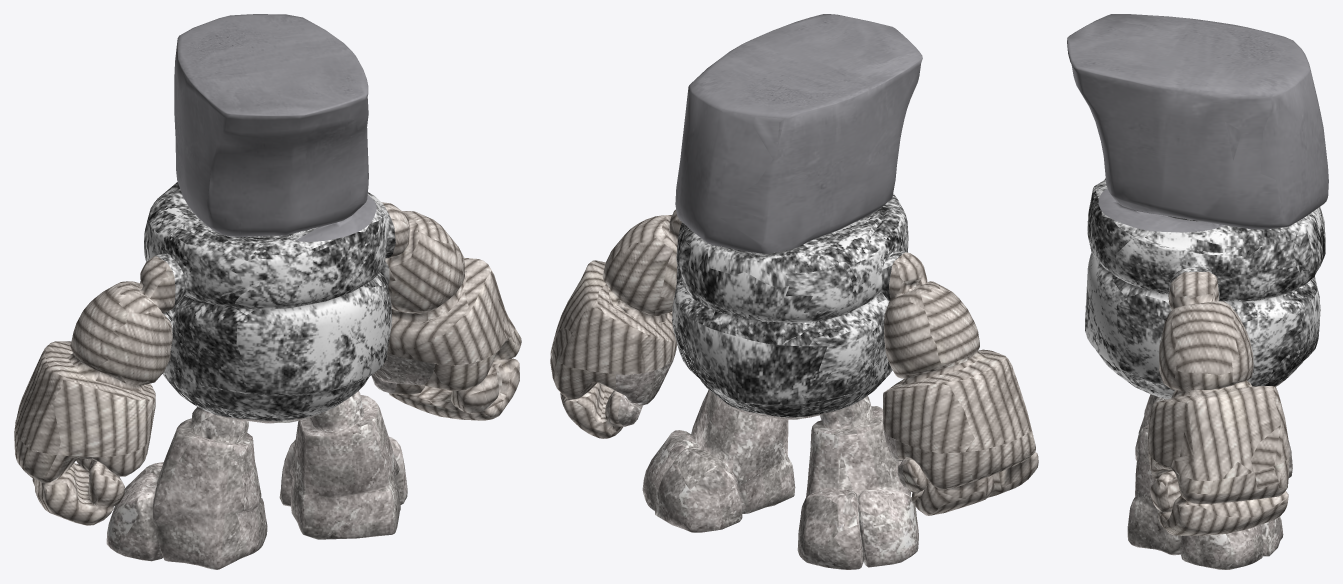
The model's file is 09-monolith-tanka--3d_robot_model.glb.
3 renders of one model, left to right at view 1: azimuth 30°, elevation 25°; view 2: azimuth 150°, elevation 25°; view 3: azimuth 270°, elevation 25°, orthographic. The views are drawn at different scales.
Parts seen in each view (by area): view 1: arms_mesh, body_mesh, head_mesh, feet_mesh; view 2: head_mesh, arms_mesh, body_mesh, feet_mesh; view 3: head_mesh, body_mesh, arms_mesh, feet_mesh.
Part boxes in pixels (x1,y1,x2,y2): arms_mesh: [14, 202, 521, 525]; body_mesh: [144, 182, 395, 420]; head_mesh: [174, 14, 376, 241]; feet_mesh: [106, 353, 435, 569]; head_mesh: [675, 14, 922, 253]; arms_mesh: [550, 209, 1038, 515]; body_mesh: [672, 193, 908, 417]; feet_mesh: [616, 349, 918, 569]; head_mesh: [1067, 14, 1328, 232]; body_mesh: [1085, 178, 1325, 399]; arms_mesh: [1147, 231, 1289, 535]; feet_mesh: [1127, 381, 1292, 569].
Size of the model in its own units: 3.26 by 3 by 1.56.
Materials: 4 (4 with a texture image).
